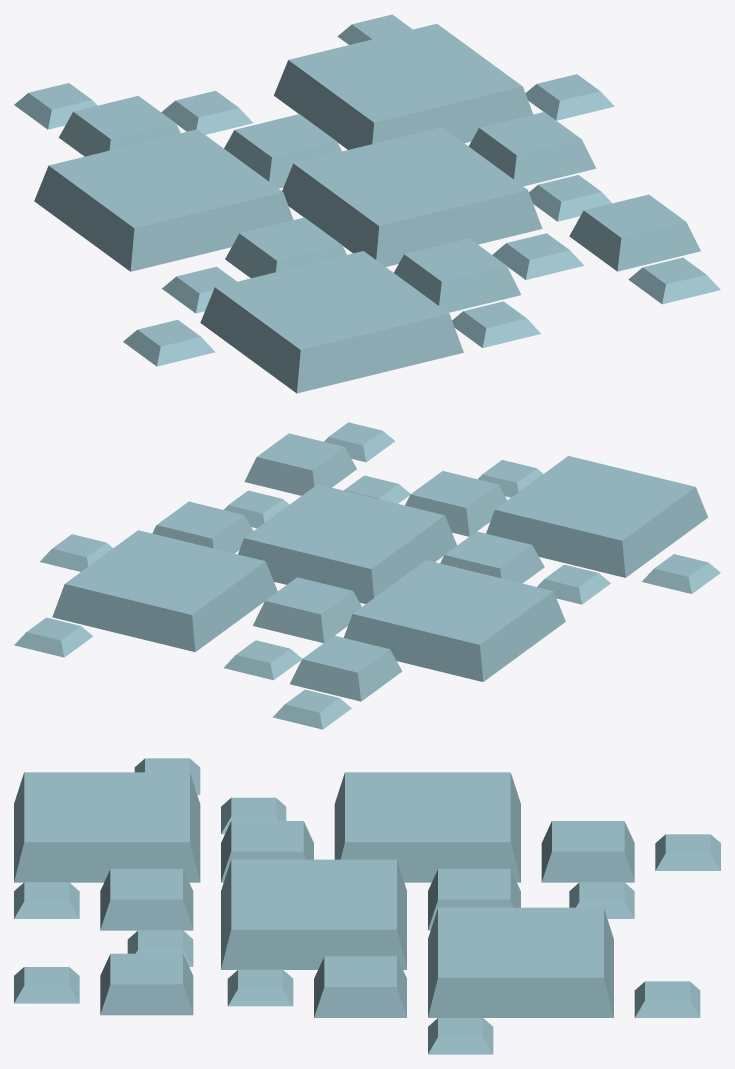
Rendered from road.dae.
The picture shows the model from 3 angles, top to bottom: view 1: azimuth 30°, elevation 25°; view 2: azimuth 150°, elevation 25°; view 3: azimuth 270°, elevation 25°; orthographic projection. The views are drawn at different scales.
Parts seen in each view (by area): view 1: road; view 2: road; view 3: road.
Part boxes in pixels (x1=…): road: x1=14, y1=14, x2=720, y2=393; road: x1=14, y1=422, x2=720, y2=729; road: x1=14, y1=758, x2=720, y2=1054.
Size of the model in its own units: 0.7407 by 0.0433 by 0.7708.
